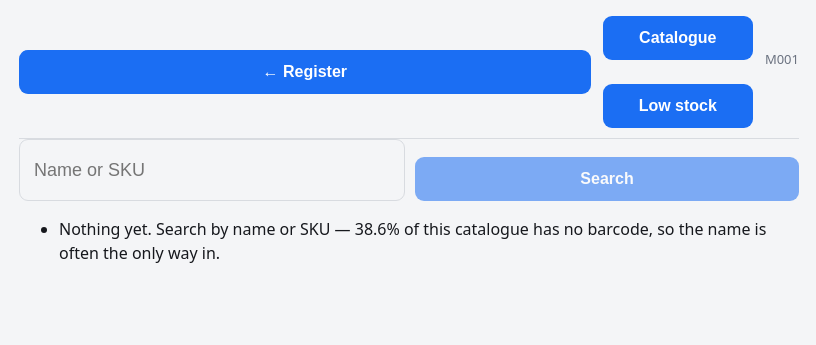
Scenario: offline is not the same as refused › says the internet is what is missing
Type "tomato" into the field named "Search the catalogue".
click(212, 170); type("tomato")  # box [19,139,405,201]
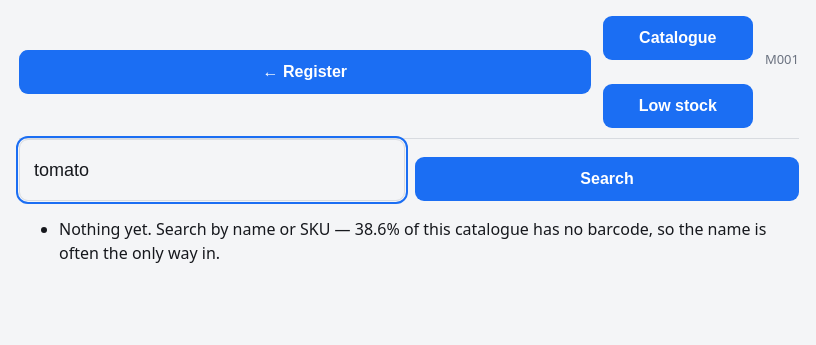
Click the button "Search".
click(607, 179)  # box [415,157,799,201]
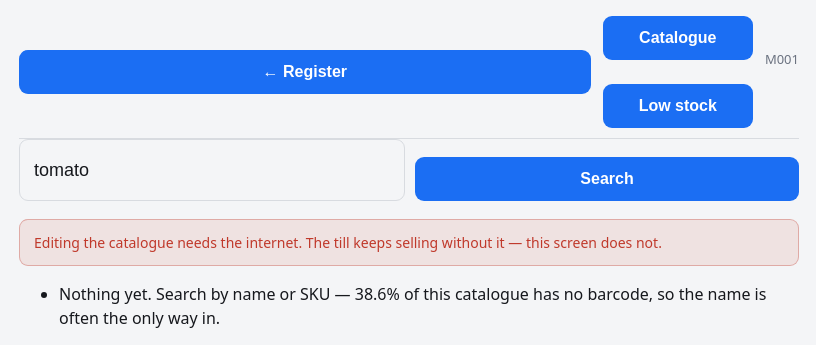
Now the text "needs the internet" is shown, box [34,233,662,252]
